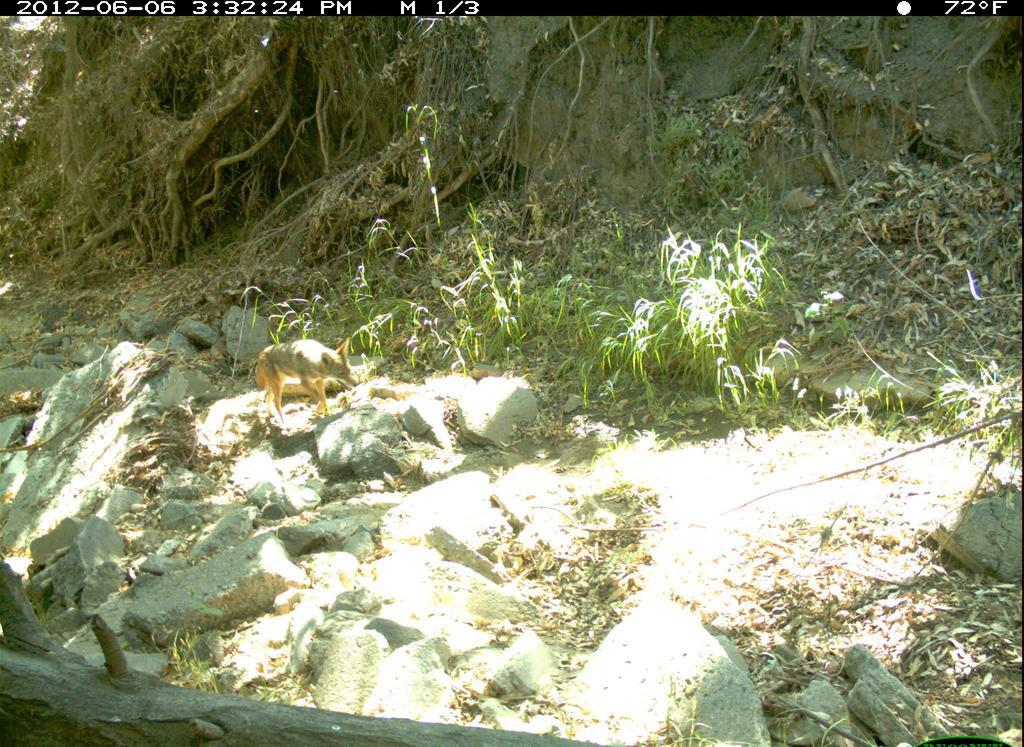coyote: (253, 332, 364, 432)
